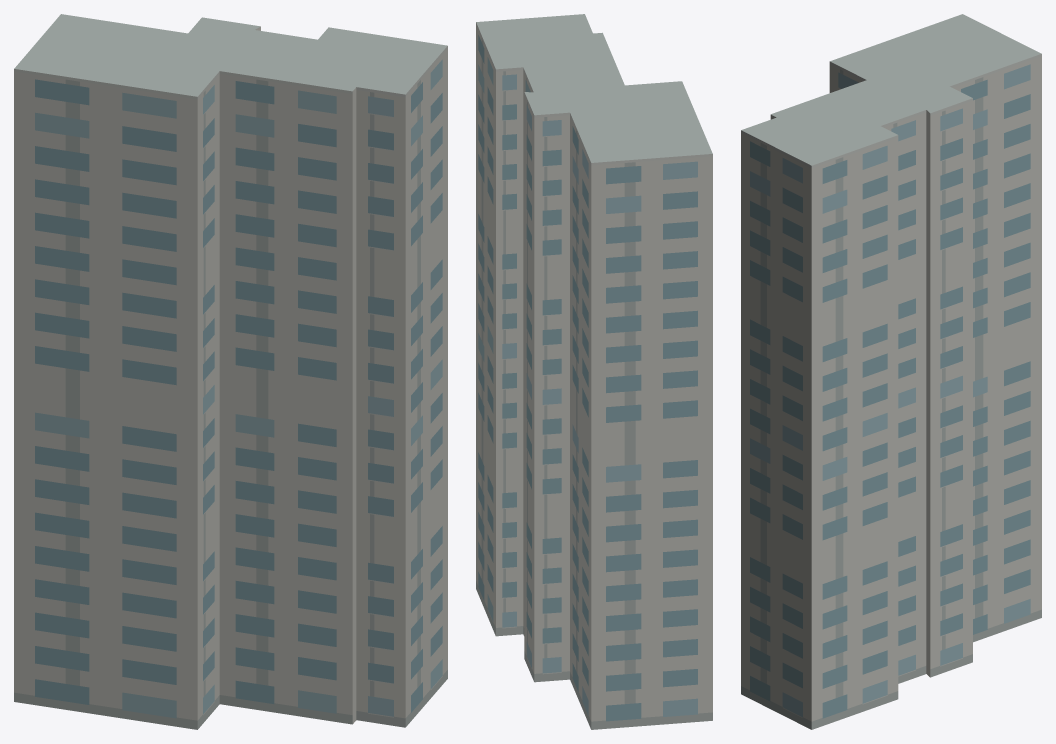
The model's file is residential-c19fd5d6-f9e2-4c62-93d8-637b499e962e.glb.
3 renders of one model, left to right at view 1: azimuth 30°, elevation 25°; view 2: azimuth 150°, elevation 25°; view 3: azimuth 270°, elevation 25°, orthographic. The views are drawn at different scales.
Visible parts, largest first — view 1: residential-c19fd5d6-f9e2-4c62-93d8-637b499e962e.tmp; view 2: residential-c19fd5d6-f9e2-4c62-93d8-637b499e962e.tmp; view 3: residential-c19fd5d6-f9e2-4c62-93d8-637b499e962e.tmp.
Boxes of the visible parts, x1,y1,x2,y2 form: residential-c19fd5d6-f9e2-4c62-93d8-637b499e962e.tmp: (14,14,447,729); residential-c19fd5d6-f9e2-4c62-93d8-637b499e962e.tmp: (476,14,712,729); residential-c19fd5d6-f9e2-4c62-93d8-637b499e962e.tmp: (741,14,1041,729).
Bounding box in the file's own units: 31.16 × 54 × 26.09.
